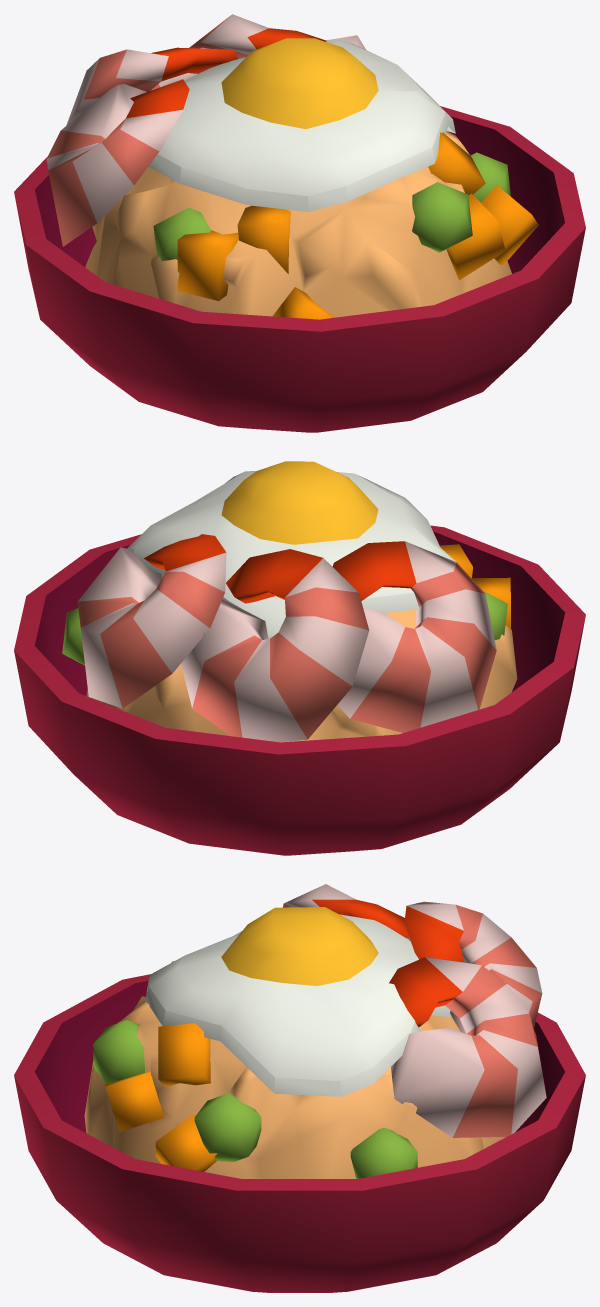
File: FriedRice2_geo.fbx
3 views of the same model, one above another, from view 1: azimuth 30°, elevation 25°; view 2: azimuth 150°, elevation 25°; view 3: azimuth 270°, elevation 25° (orthographic).
Visible parts, largest first — view 1: FriedRice2_geo; view 2: FriedRice2_geo; view 3: FriedRice2_geo.
Part boxes in pixels (bbox=[...]): FriedRice2_geo: bbox=[14, 14, 585, 432]; FriedRice2_geo: bbox=[14, 461, 585, 855]; FriedRice2_geo: bbox=[14, 884, 585, 1292].
Bounding box in the file's own units: 0.6549 × 0.6776 × 0.4332.
